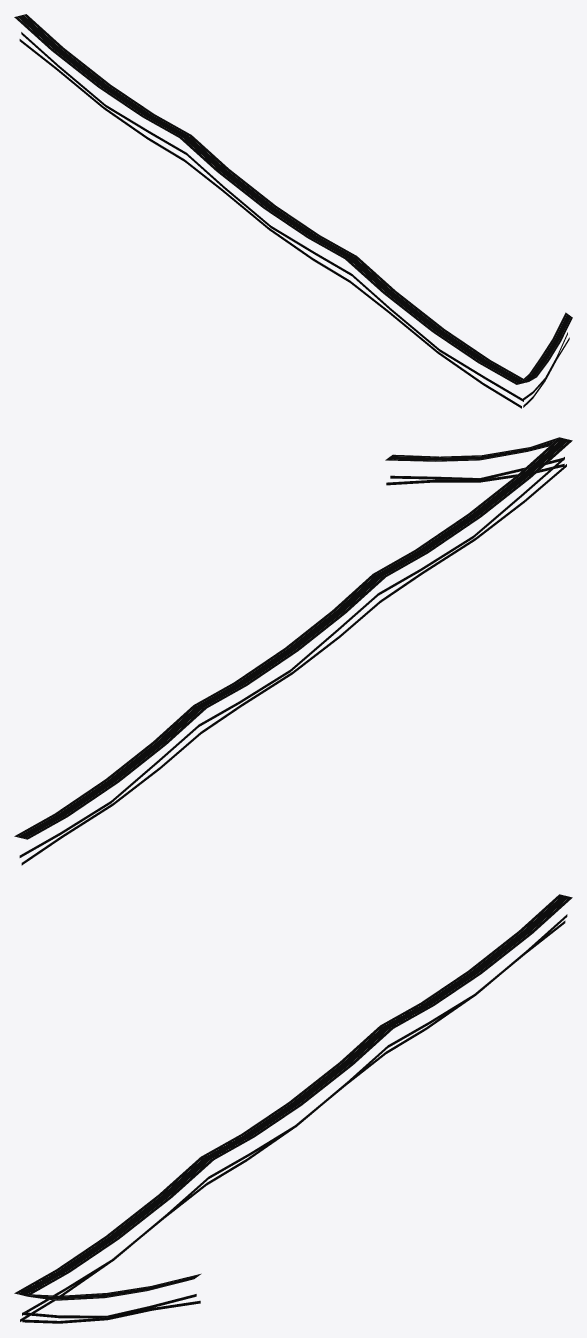
File: vegastwires10.obj
The picture shows the model from 3 angles, top to bottom: view 1: azimuth 30°, elevation 25°; view 2: azimuth 150°, elevation 25°; view 3: azimuth 330°, elevation 25°; orthographic projection. The views are drawn at different scales.
Visible parts, largest first — view 1: vegastwires10; view 2: vegastwires10; view 3: vegastwires10.
Boxes of the visible parts, left/top/right/bottom form: vegastwires10: left=14, top=14, right=572, bottom=408; vegastwires10: left=14, top=437, right=572, bottom=865; vegastwires10: left=14, top=894, right=572, bottom=1323.
Bounding box in the file's own units: 23.32 × 6.29 × 180.
1 material, 1 textured.
